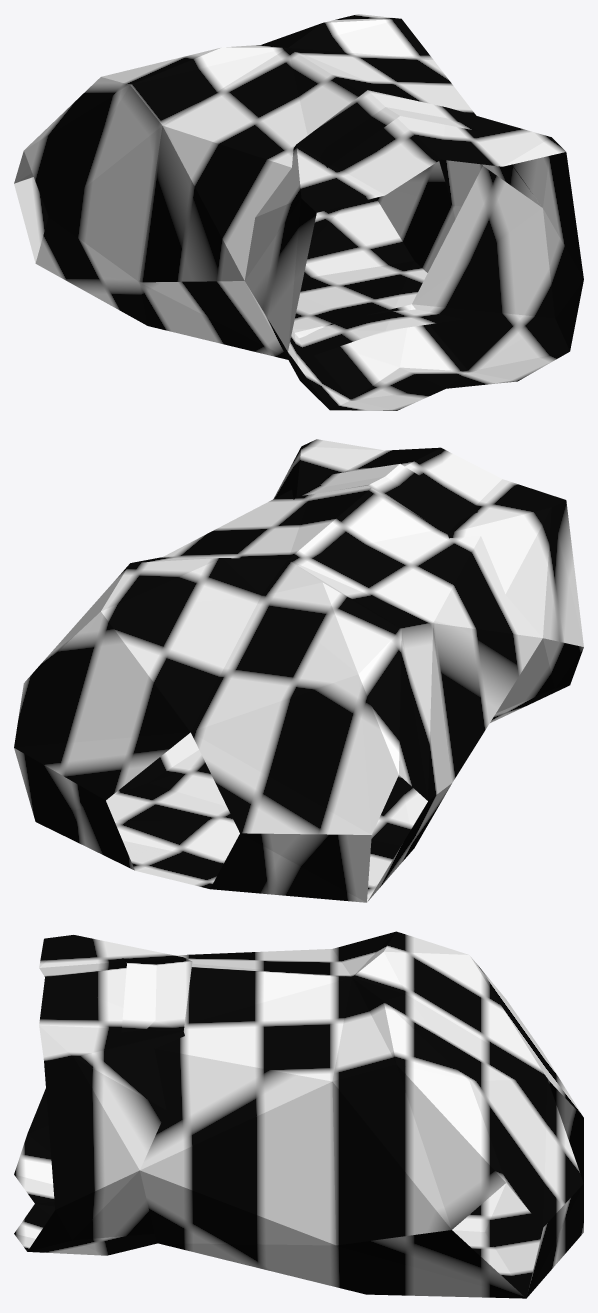
Rendered from initarsh12.dae.
The picture shows the model from 3 angles, top to bottom: view 1: azimuth 30°, elevation 25°; view 2: azimuth 150°, elevation 25°; view 3: azimuth 270°, elevation 25°; orthographic projection.
Visible parts, largest first — view 1: armor; view 2: armor; view 3: armor.
Part boxes in pixels (box(x1,y1,x2,y2)): armor: box(14, 14, 583, 410); armor: box(14, 439, 583, 902); armor: box(14, 931, 583, 1298).
Size of the model in its own units: 1.26 by 1.63 by 0.853.
Materials: 1 (1 with a texture image).
